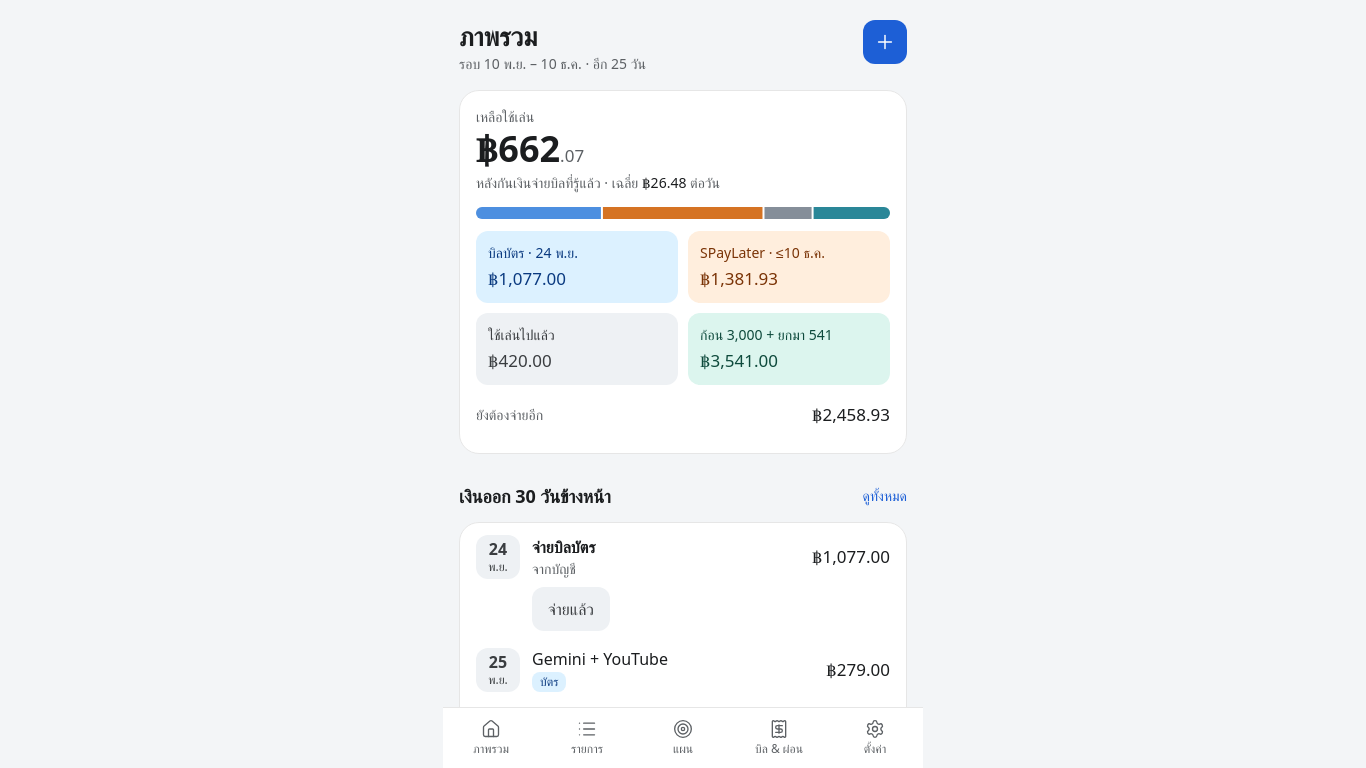
Scenario: <PreviewHome> › add sheet › rejects an empty amount with an error and stays open
Click the button named "เพิ่มรายการ" at (885, 42), box [863, 20, 907, 64]
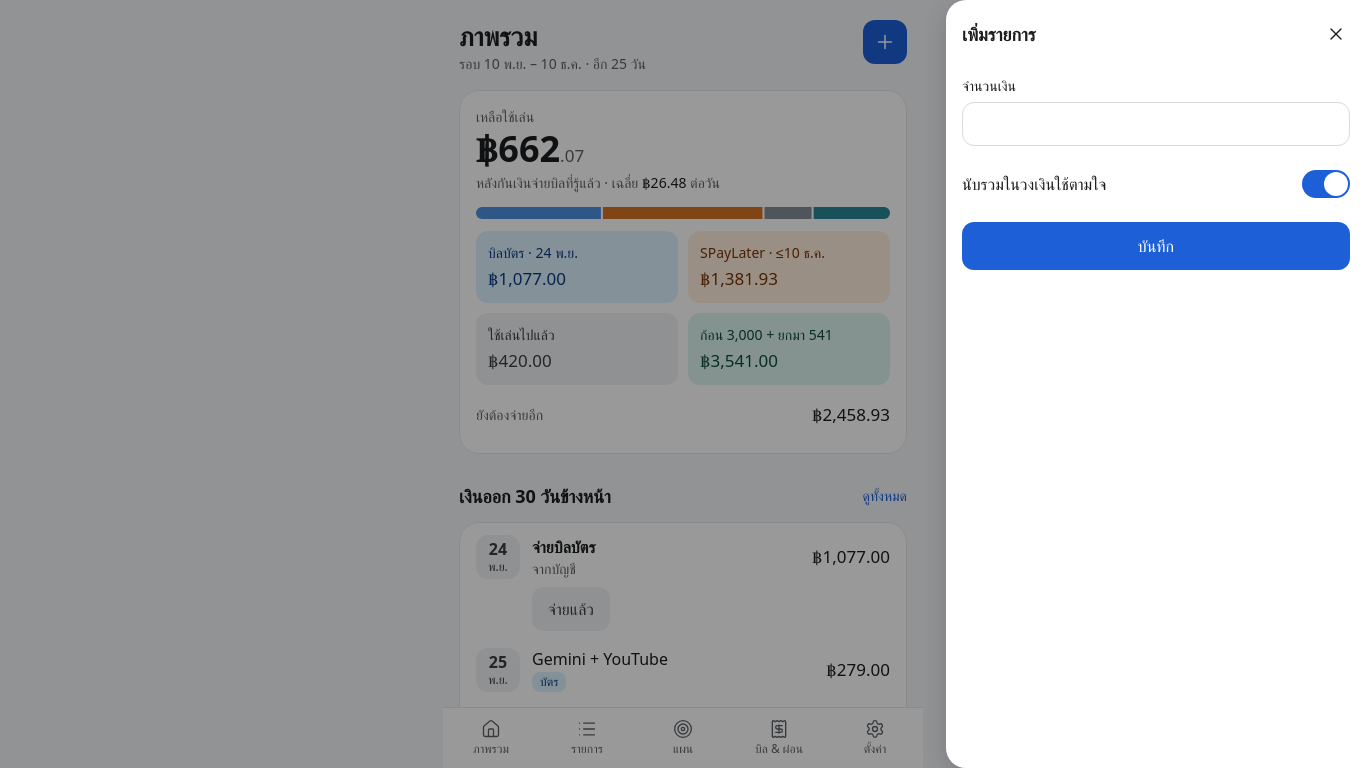
Click the button "บันทึก" at (1156, 246), box [962, 222, 1350, 270]
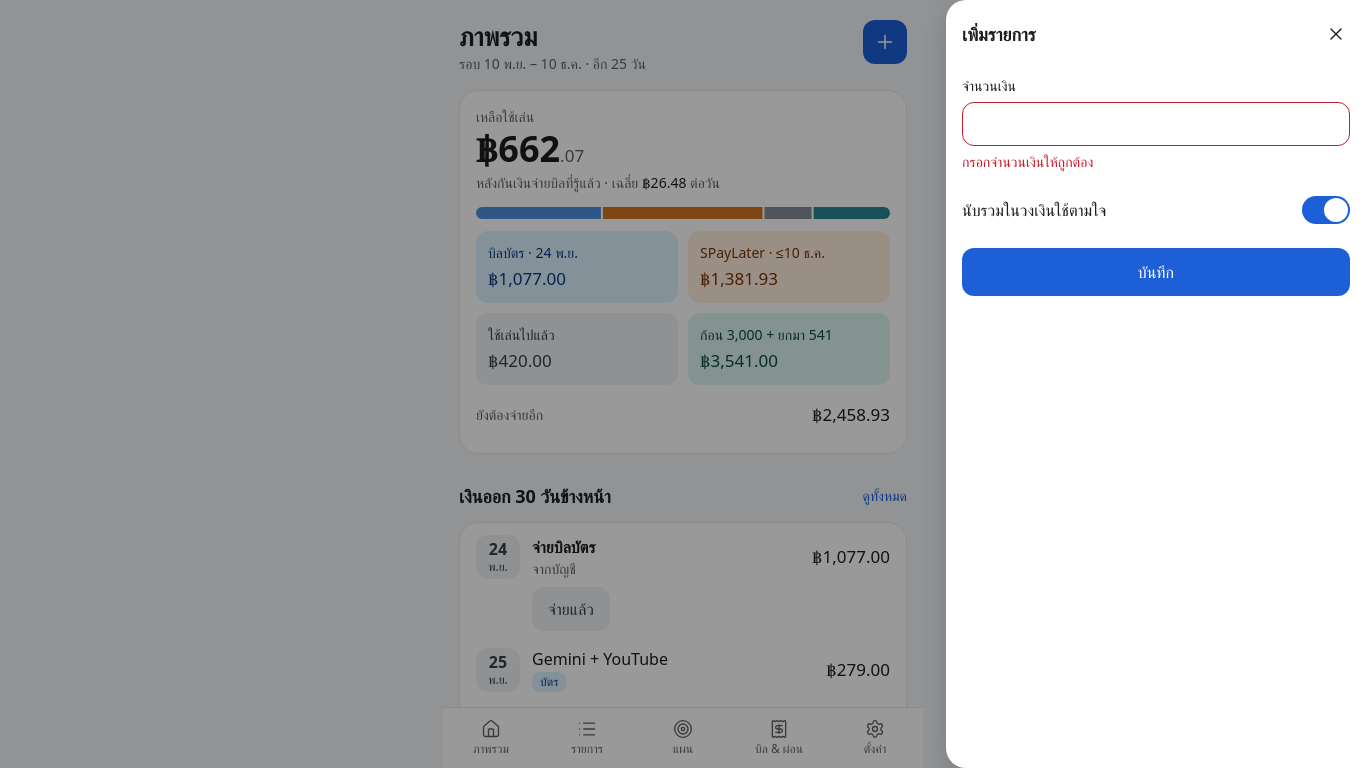
Expected: the text "กรอกจำนวนเงินให้ถูกต้อง" is shown, [962, 152, 1093, 171]
